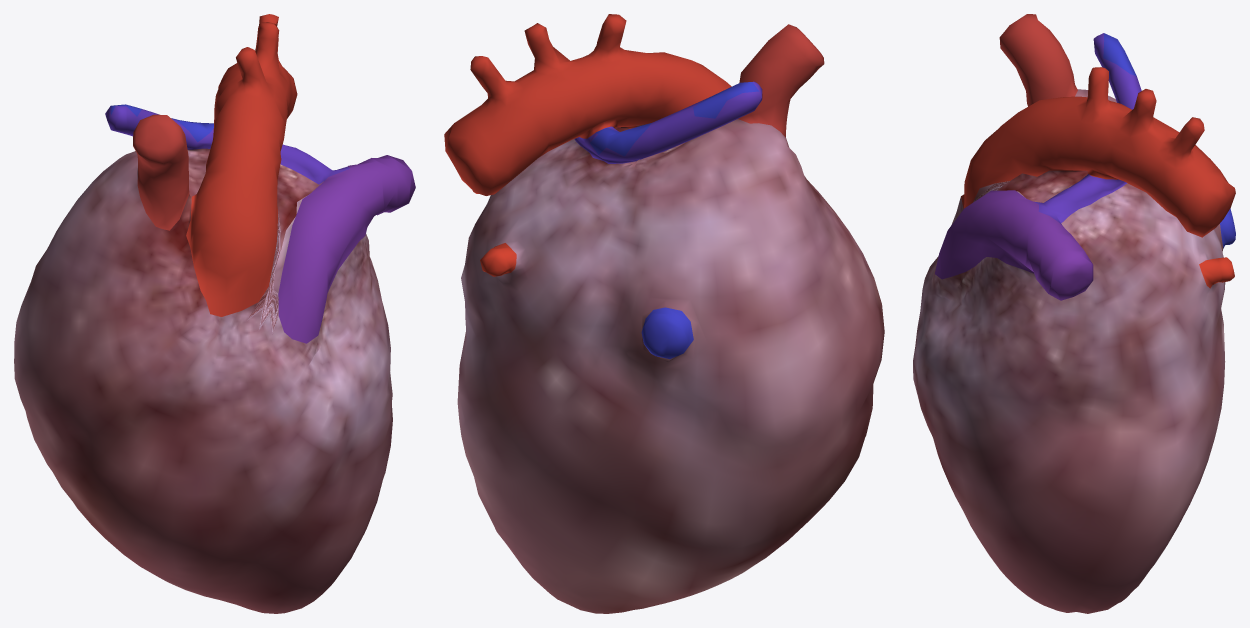
The model's file is Corazon.fbx.
The picture shows the model from 3 angles, left to right: view 1: azimuth 30°, elevation 25°; view 2: azimuth 150°, elevation 25°; view 3: azimuth 270°, elevation 25°; orthographic projection. The views are drawn at different scales.
Parts seen in each view (by area): view 1: hart:ZBrush_defualt_group; view 2: hart:ZBrush_defualt_group; view 3: hart:ZBrush_defualt_group.
Boxes of the visible parts, x1=… form: hart:ZBrush_defualt_group: x1=14, y1=14, x2=415, y2=613; hart:ZBrush_defualt_group: x1=444, y1=14, x2=884, y2=613; hart:ZBrush_defualt_group: x1=913, y1=14, x2=1235, y2=613.
Size of the model in its own units: 61.05 by 49.68 by 90.42.
1 material, 1 textured.
